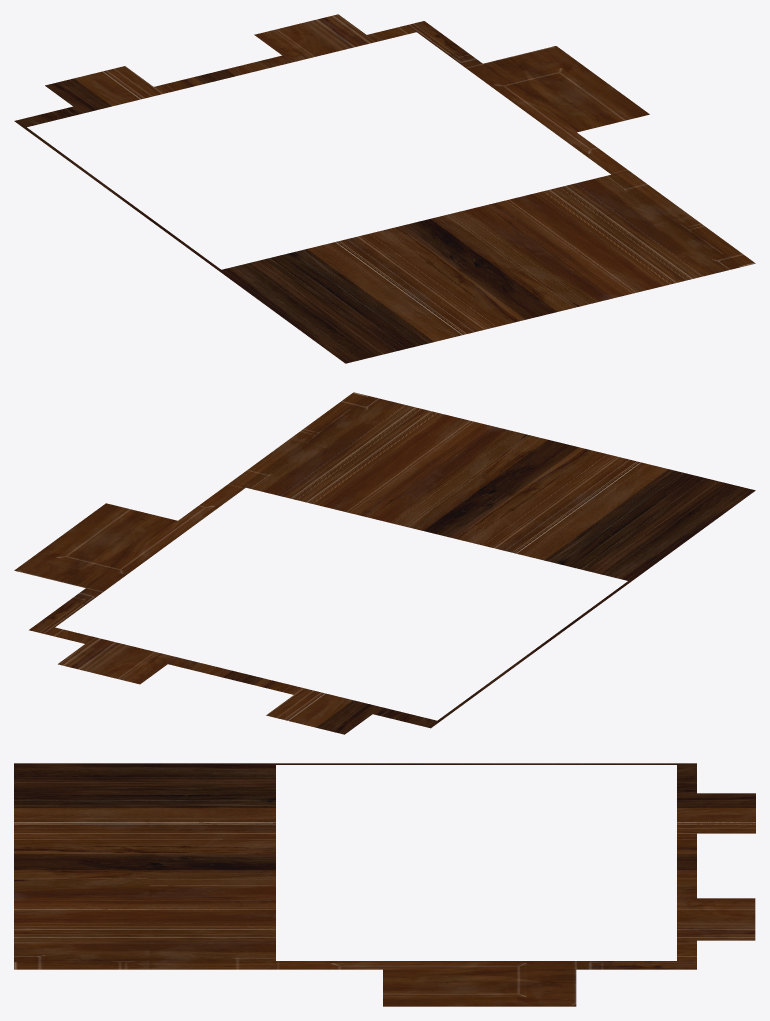
Rendered from Kitchen_GEO_GRP1_Floor_02.obj.
The picture shows the model from 3 angles, top to bottom: view 1: azimuth 30°, elevation 25°; view 2: azimuth 150°, elevation 25°; view 3: azimuth 270°, elevation 25°; orthographic projection. The views are drawn at different scales.
Parts seen in each view (by area): view 1: Kitchen_GEO_GRP1_Floor_02; view 2: Kitchen_GEO_GRP1_Floor_02; view 3: Kitchen_GEO_GRP1_Floor_02.
Boxes of the visible parts, <box> form: Kitchen_GEO_GRP1_Floor_02: <box>14,14,755,363</box>; Kitchen_GEO_GRP1_Floor_02: <box>14,392,755,734</box>; Kitchen_GEO_GRP1_Floor_02: <box>14,763,755,1006</box>.
Size of the model in its own units: 8.57 by 0 by 11.06.
1 material, 1 textured.
